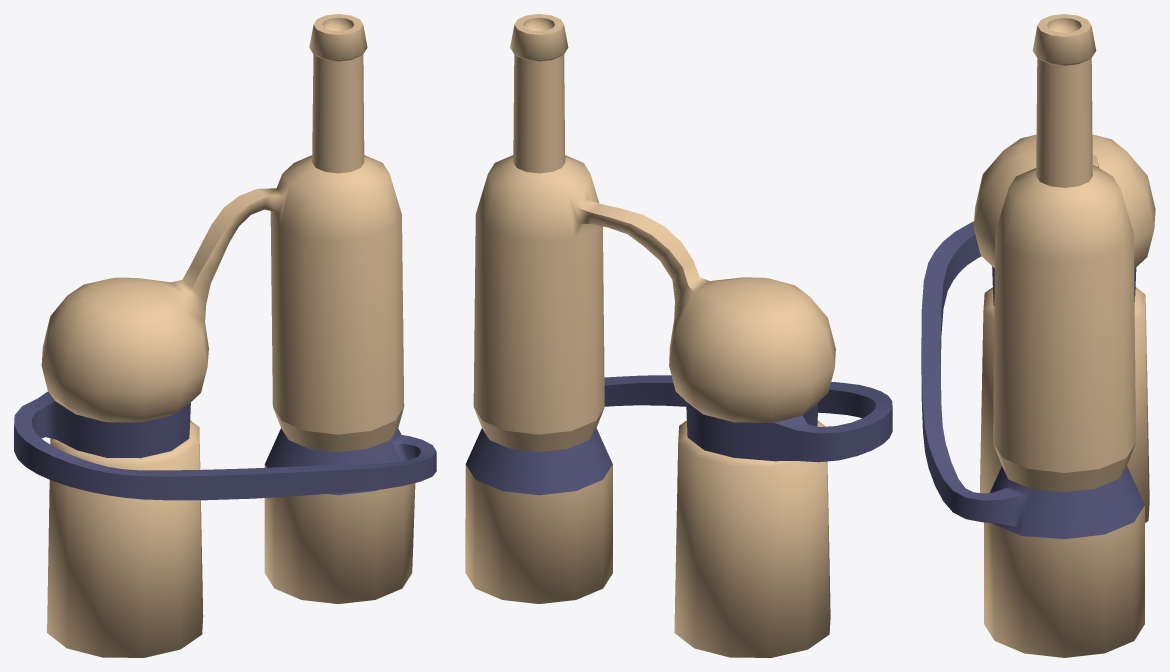
Rendered from Mesh_Bottles.fbx.
3 views of the same model, side by side, from view 1: azimuth 30°, elevation 25°; view 2: azimuth 150°, elevation 25°; view 3: azimuth 270°, elevation 25° (orthographic). The views are drawn at different scales.
Visible parts, largest first — view 1: Bouteilles; view 2: Bouteilles; view 3: Bouteilles.
Part boxes in pixels (left/top/right/bottom): Bouteilles: left=14, top=14, right=436, bottom=657; Bouteilles: left=465, top=14, right=892, bottom=657; Bouteilles: left=921, top=14, right=1155, bottom=657.
Size of the model in its own units: 0.2965 by 0.3995 by 0.1405.
